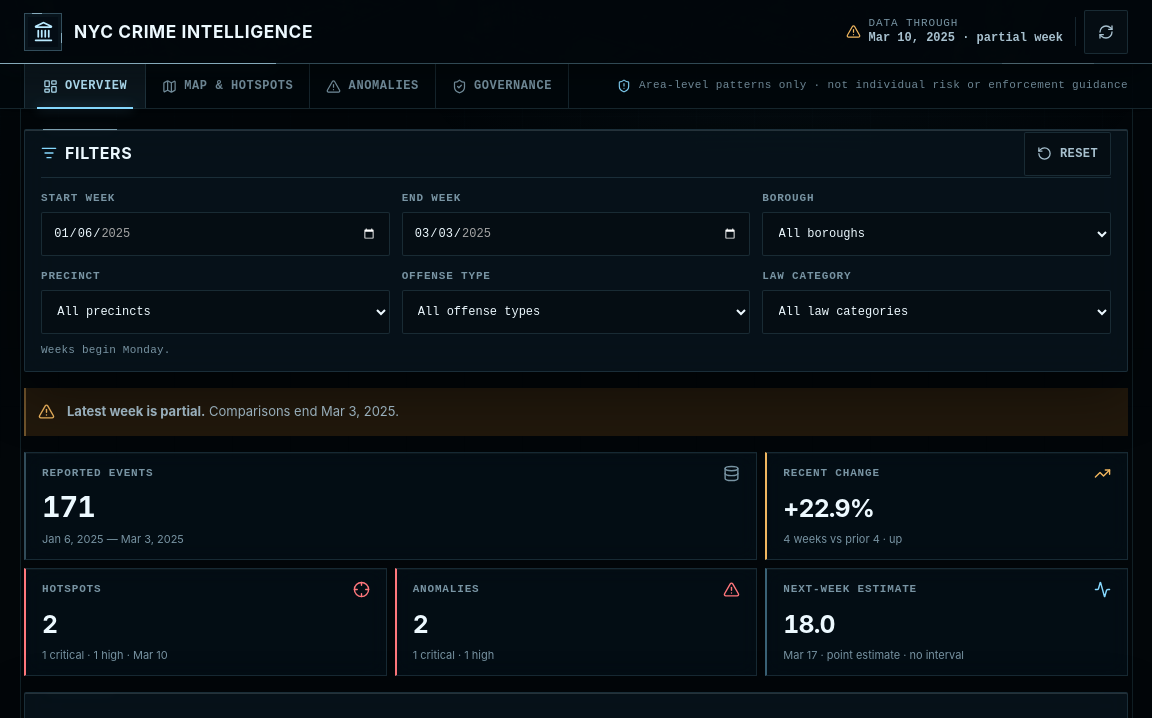
Scenario: Overview global filtering › keeps observed totals internally consistent and reset restores the default scope
This screenshot has width=1152, height=718.
Expected: the element with test id "selected-total" shows "171", [42,489,95,524]
Select "BRONX" in the dropdown labelled "Borough": (937, 234) [762,212,1111,256]
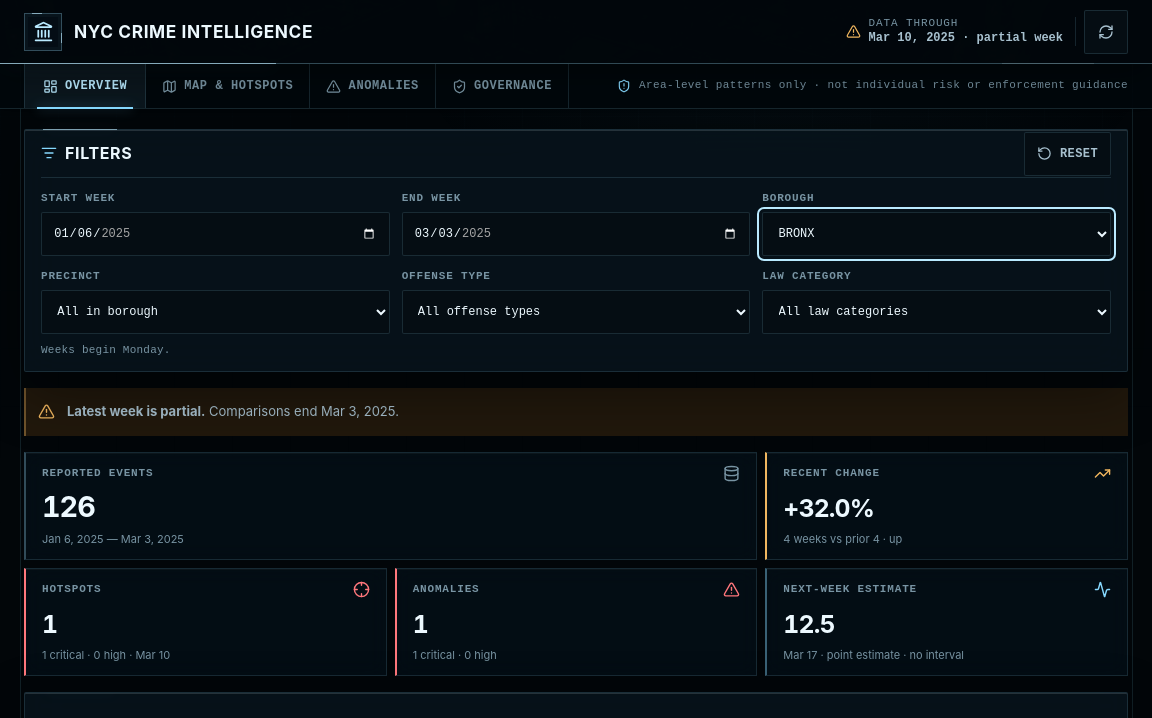
Expected: the element with test id "selected-total" shows "126", [42,489,95,524]
Click the button "Reset": (1067, 154) [1024,132,1111,176]
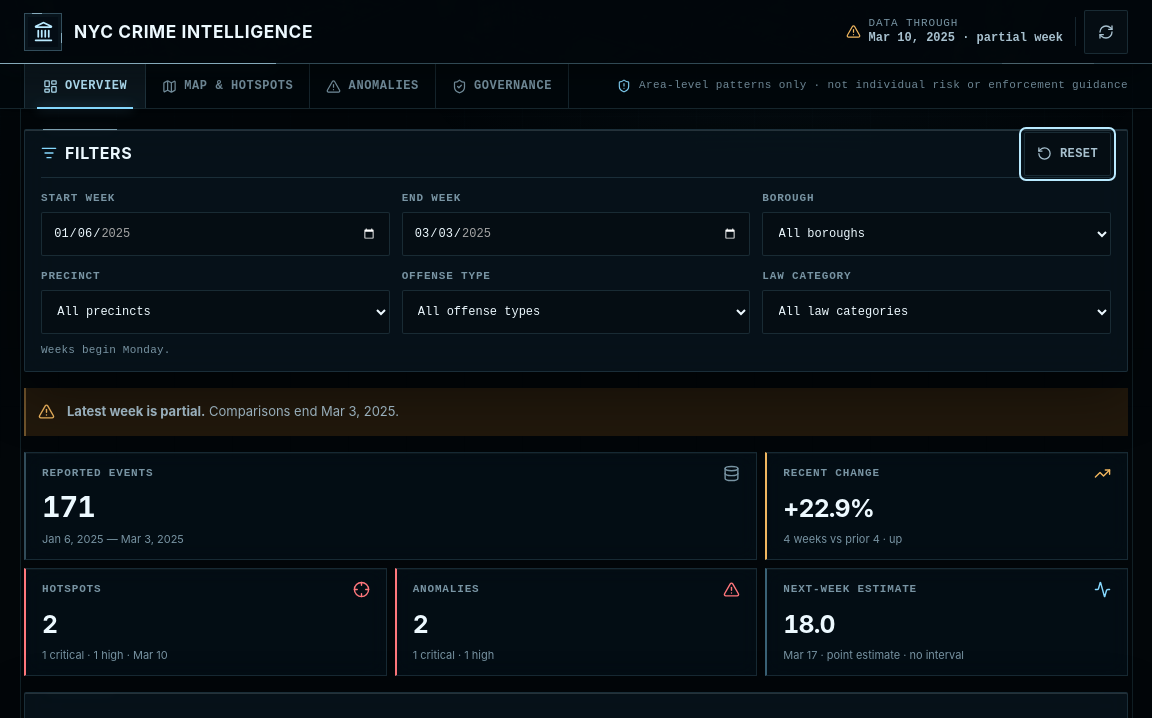
Expected: the element with test id "selected-total" shows "171", [42,489,95,524]
